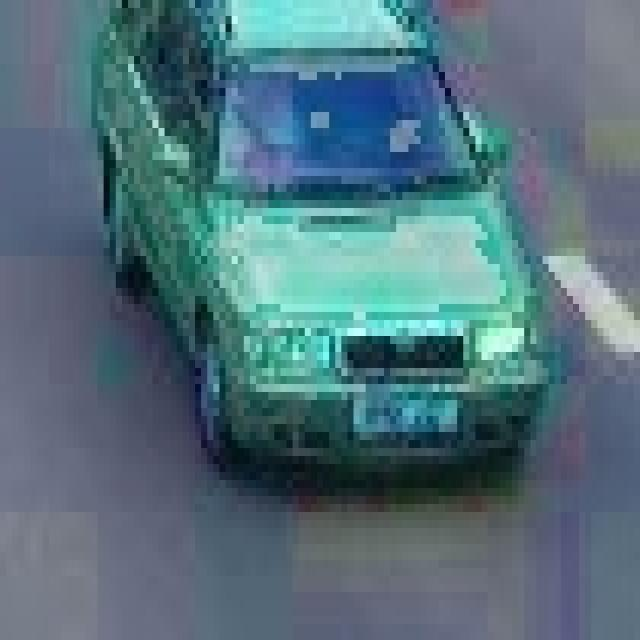green: (82, 0, 540, 456)
